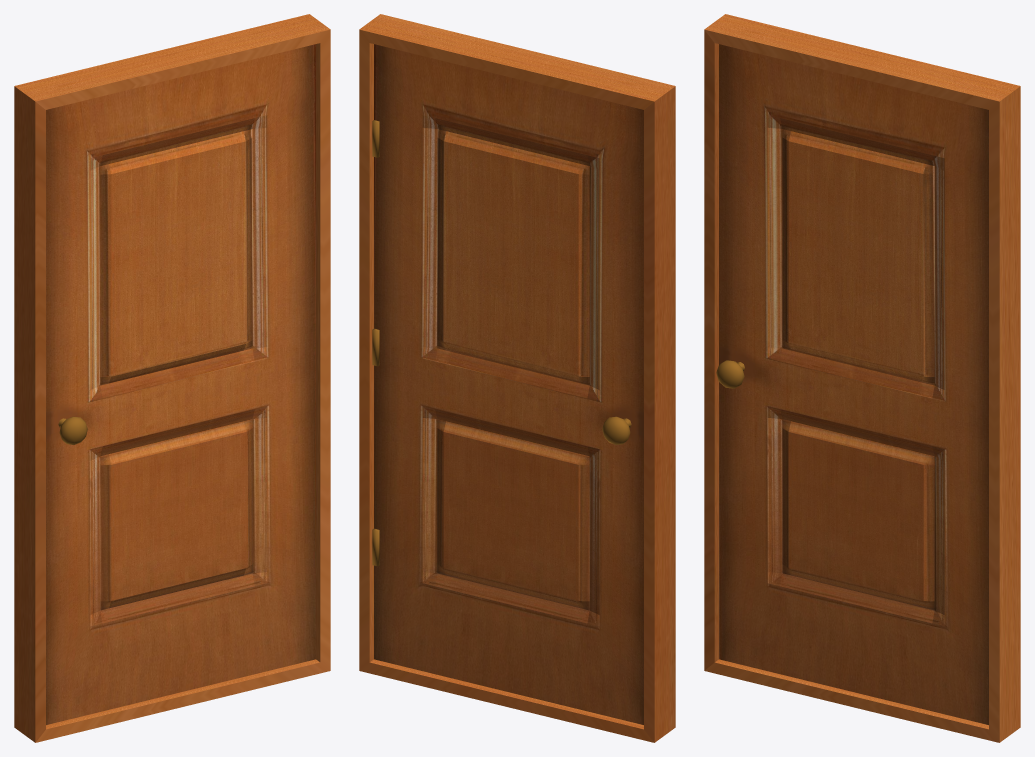
The model's file is doorStandard.glb.
The picture shows the model from 3 angles, left to right: view 1: azimuth 30°, elevation 25°; view 2: azimuth 150°, elevation 25°; view 3: azimuth 330°, elevation 25°; orthographic projection.
Visible parts, largest first — view 1: door, frame, knob; view 2: door, frame, hinge2, knob; view 3: door, frame, knob.
Boxes of the visible parts, x1,y1,x2,y2 form: door: (46, 44, 315, 724); frame: (14, 14, 330, 742); knob: (58, 416, 87, 444); door: (374, 44, 643, 724); frame: (359, 14, 675, 742); hinge2: (372, 120, 379, 566); knob: (602, 416, 631, 444); door: (719, 44, 988, 724); frame: (704, 14, 1020, 742); knob: (716, 360, 744, 388).
Size of the model in its own units: 1.91 by 3.97 by 0.4957.
3 materials, 2 textured.
